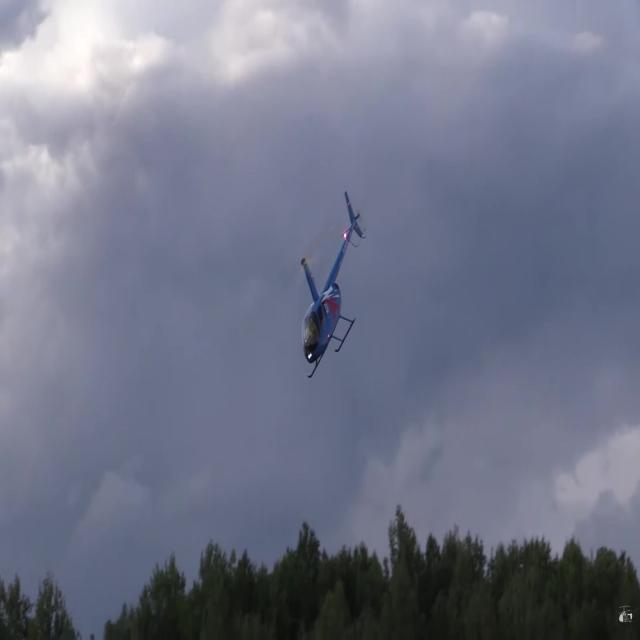CIV_HELO: (300, 189, 364, 380)
